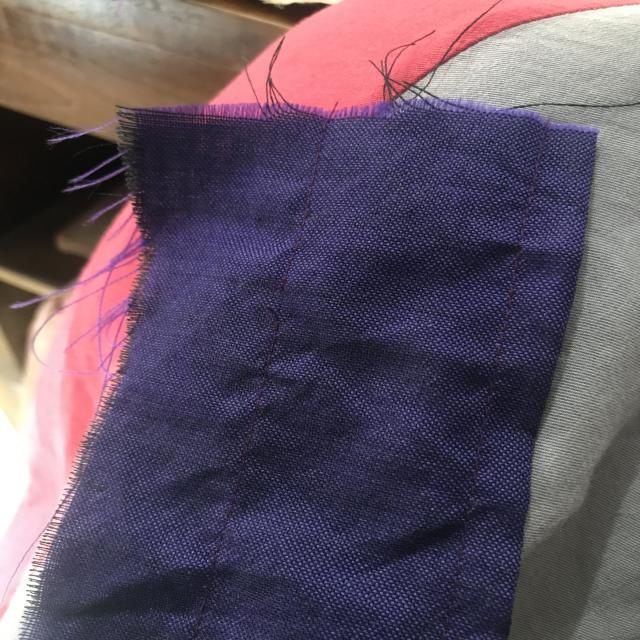broken: (260, 267, 302, 334)
